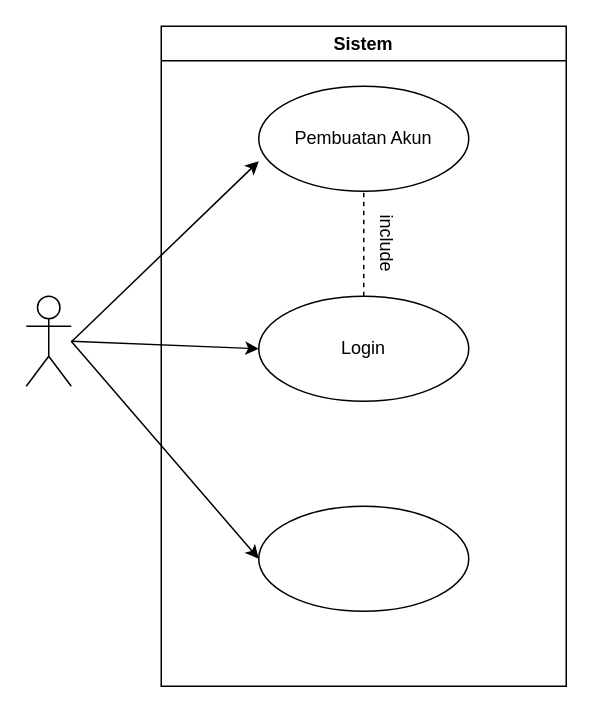
This 593x713 diagram has some shape labels left out. Here are the shapes that lost their labels. From the top down, the centre of each, then its label:
(x=48, y=340): Actor
(x=363, y=558): Meeting
